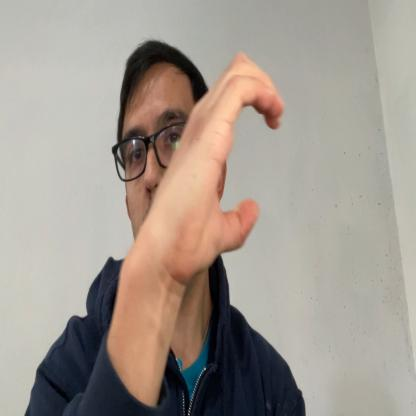C: (184, 51, 284, 272)
